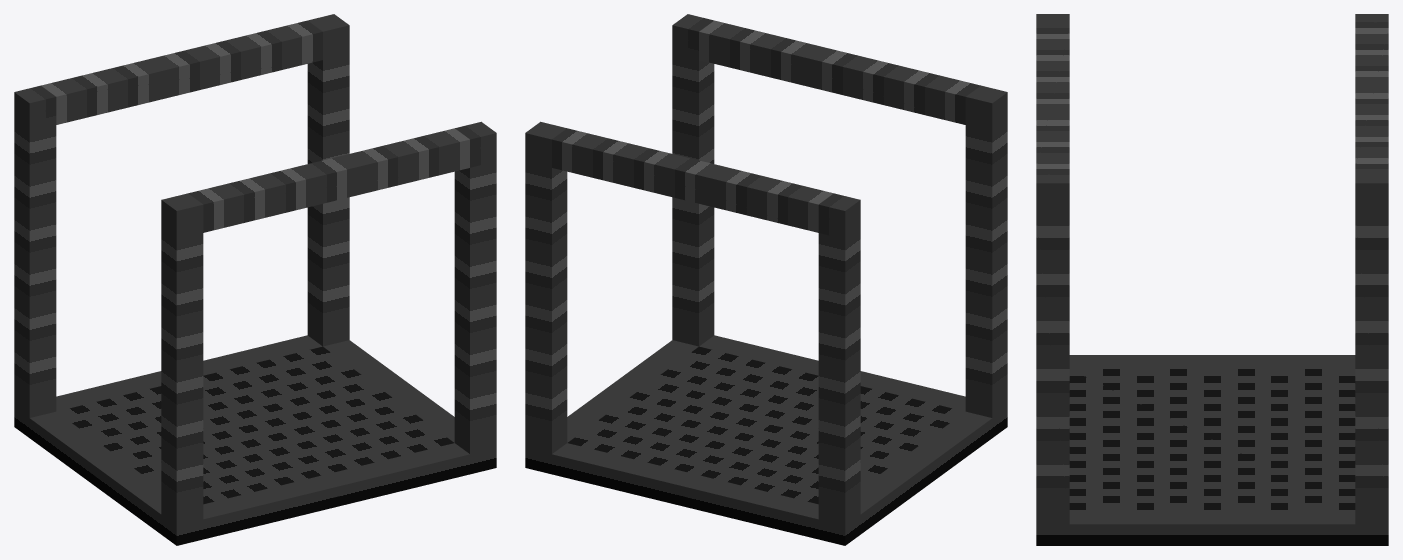
Rendered from WineRack.fbx.
The picture shows the model from 3 angles, left to right: view 1: azimuth 30°, elevation 25°; view 2: azimuth 150°, elevation 25°; view 3: azimuth 270°, elevation 25°; orthographic projection. The views are drawn at different scales.
Visible parts, largest first — view 1: WineRack.005; view 2: WineRack.005; view 3: WineRack.005.
Part boxes in pixels (bbox=[...]): WineRack.005: bbox=[14, 14, 496, 545]; WineRack.005: bbox=[525, 14, 1007, 545]; WineRack.005: bbox=[1036, 14, 1388, 545].
Bounding box in the file's own units: 68.07 × 68.07 × 59.92.
